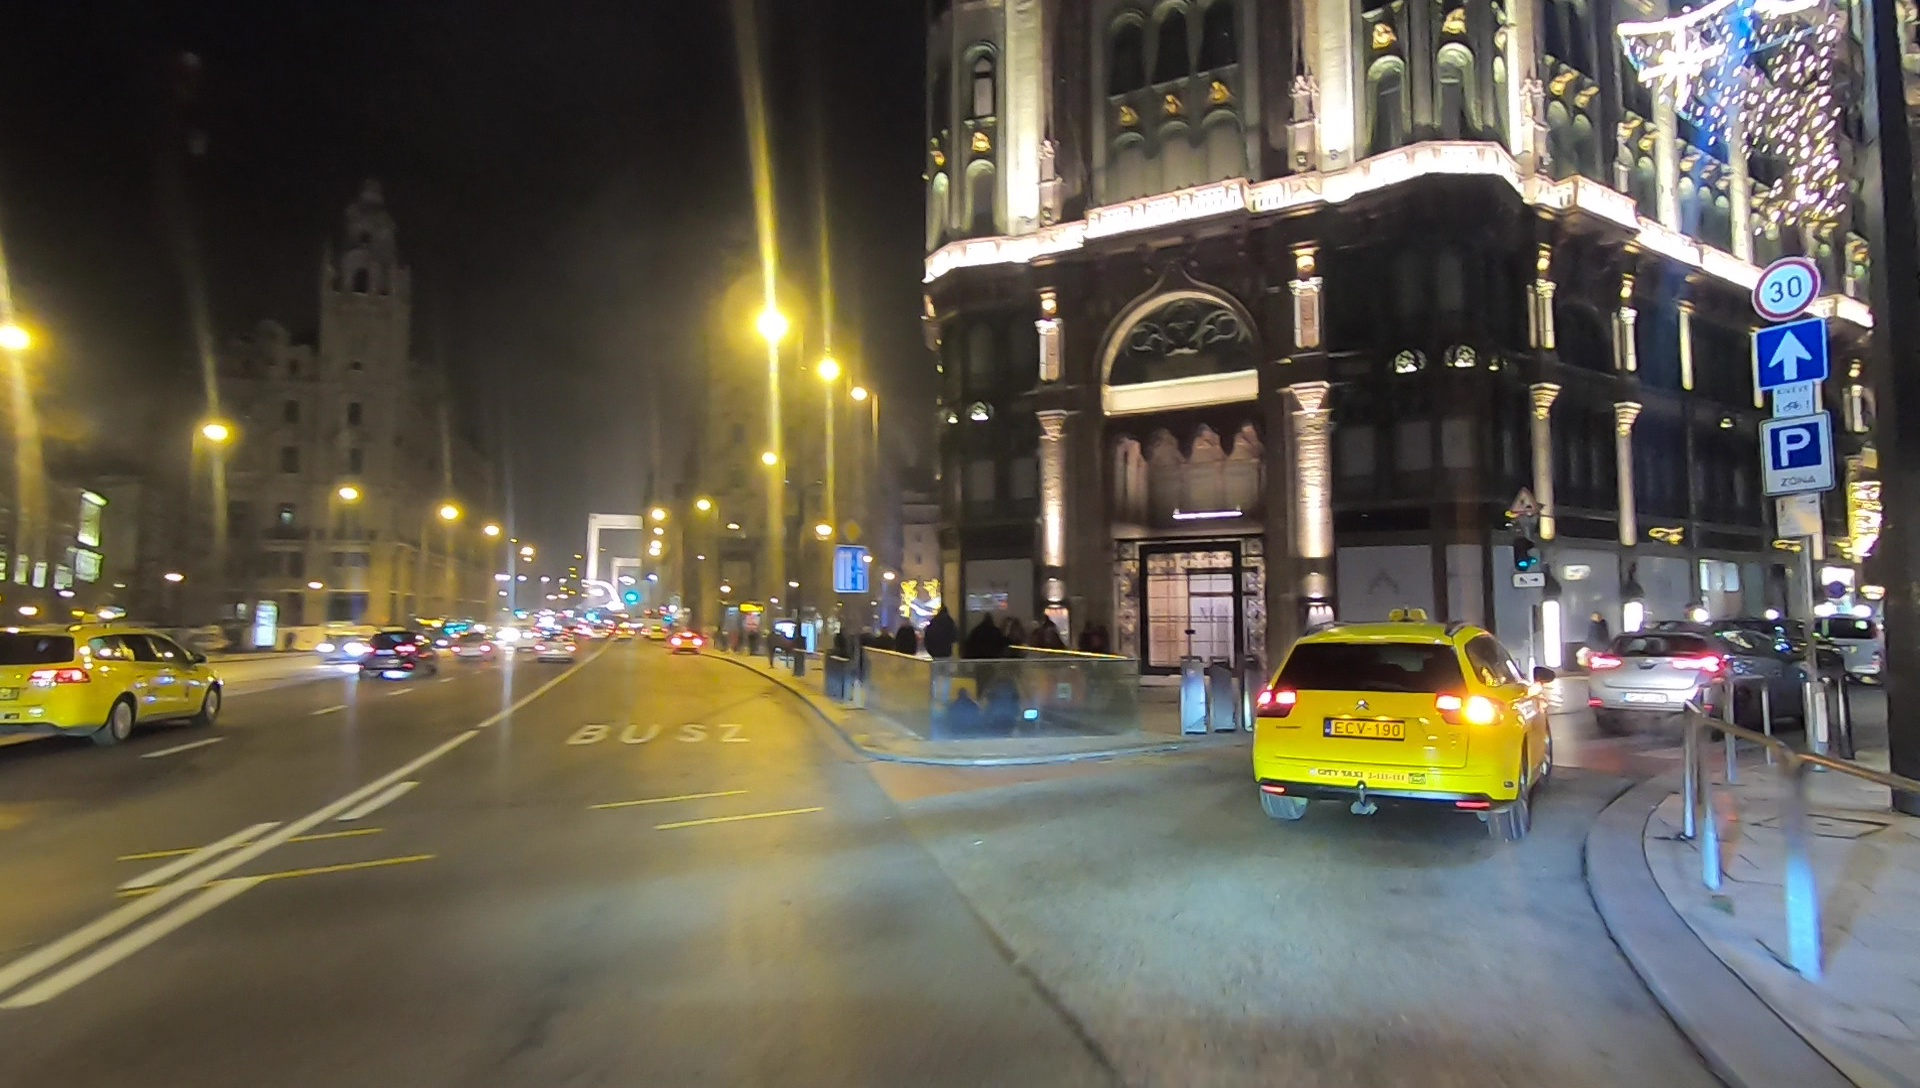person: (967, 616, 1003, 697), (927, 604, 959, 695), (1079, 617, 1106, 695), (1584, 613, 1611, 686), (895, 619, 919, 697), (764, 623, 779, 672), (781, 627, 797, 675)
